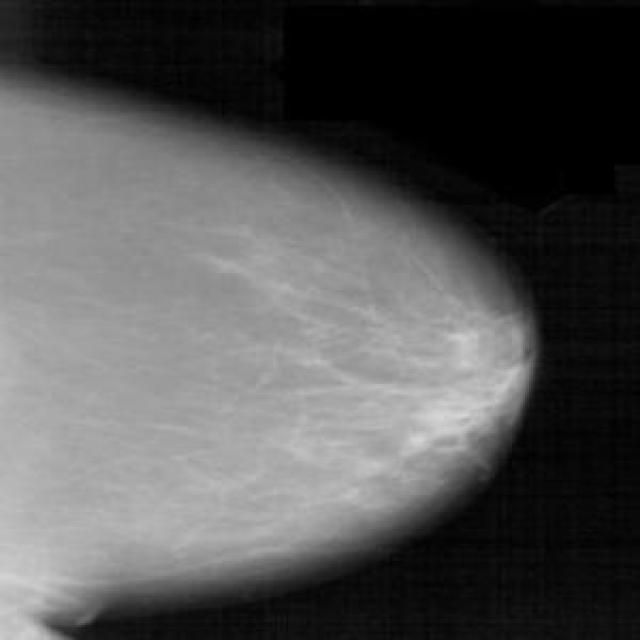tumor: (394, 305, 530, 472)
